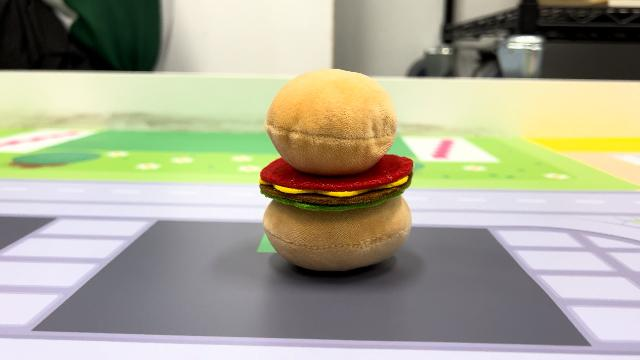burger: (255, 64, 418, 274)
